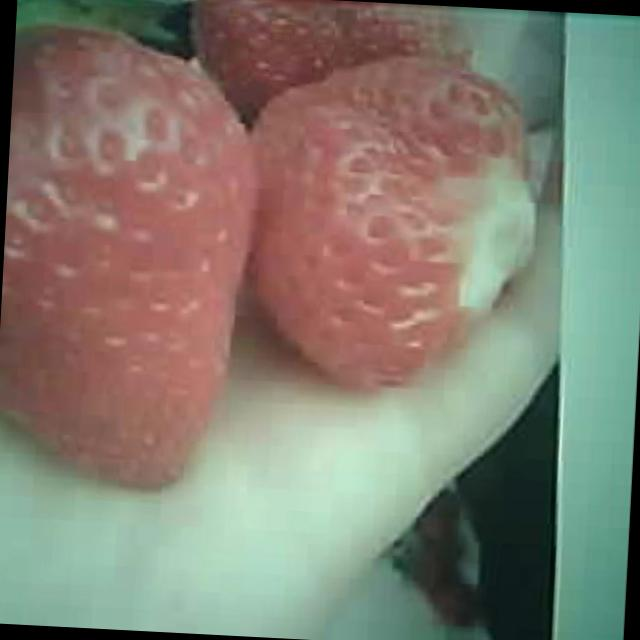strawberry: (0, 32, 269, 499)
